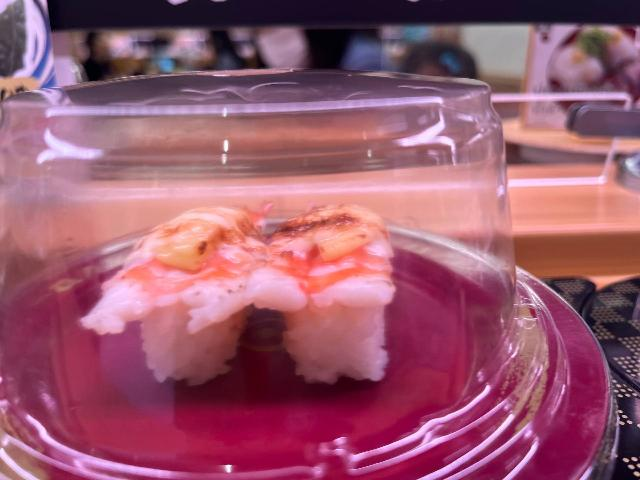janred: (0, 265, 599, 480)
